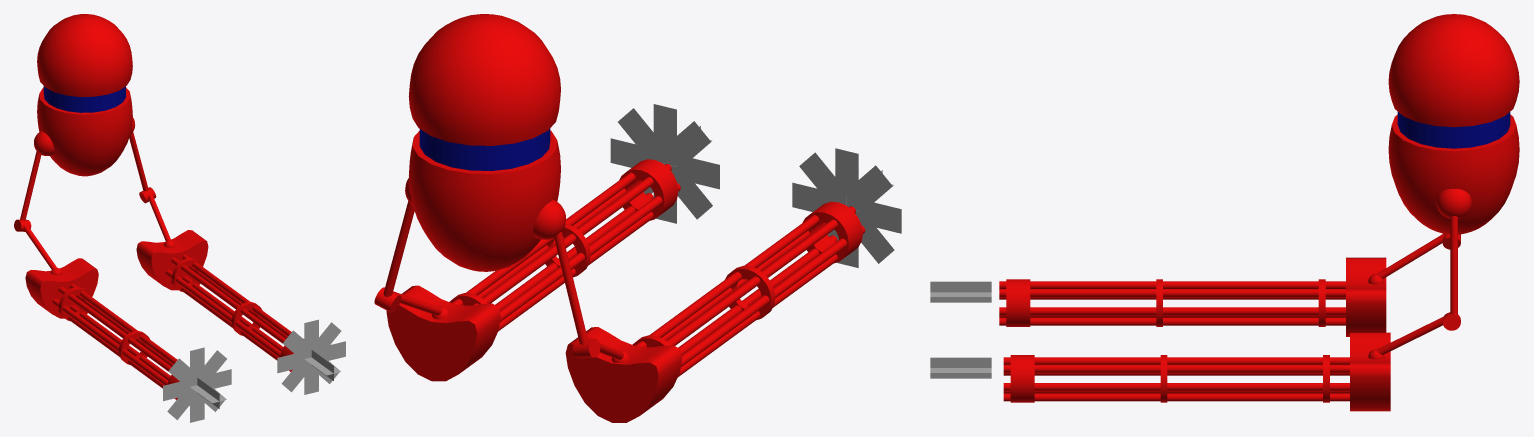
The model's file is gatlin_enemy_V2.fbx.
The picture shows the model from 3 angles, left to right: view 1: azimuth 30°, elevation 25°; view 2: azimuth 150°, elevation 25°; view 3: azimuth 270°, elevation 25°; orthographic projection. The views are drawn at different scales.
Visible parts, largest first — view 1: polySurface53, polySurface1, polySurface29, polySurface41, polySurface38, polySurface50, polySurface10, polySurface59, polySurface7, polySurface55, polySurface24, polySurface27 (+5 smaller); view 2: polySurface53, polySurface1, polySurface29, polySurface41, polySurface50, polySurface38, polySurface59, polySurface10, polySurface24, polySurface55, polySurface7, polySurface27 (+2 smaller); view 3: polySurface29, polySurface41, polySurface53, polySurface1, polySurface50, polySurface38, polySurface24, polySurface22, polySurface12, polySurface2, polySurface25, polySurface39 (+1 smaller).
Boxes of the visible parts, x1,y1,x2,y2 form: polySurface53: [37, 14, 132, 96]; polySurface1: [37, 87, 132, 176]; polySurface29: [52, 283, 189, 405]; polySurface41: [165, 254, 304, 371]; polySurface38: [25, 258, 98, 318]; polySurface50: [136, 230, 208, 290]; polySurface10: [163, 347, 231, 422]; polySurface59: [277, 319, 345, 394]; polySurface7: [167, 350, 226, 420]; polySurface55: [281, 322, 341, 392]; polySurface24: [43, 86, 125, 112]; polySurface27: [20, 151, 41, 220]; polySurface53: [408, 14, 560, 145]; polySurface1: [409, 130, 560, 271]; polySurface29: [632, 201, 865, 377]; polySurface41: [449, 159, 680, 331]; polySurface50: [386, 285, 500, 381]; polySurface38: [565, 327, 682, 422]; polySurface59: [610, 104, 719, 223]; polySurface10: [792, 148, 901, 267]; polySurface24: [419, 128, 550, 170]; polySurface55: [618, 108, 712, 219]; polySurface7: [799, 152, 894, 263]; polySurface27: [554, 231, 587, 344]; polySurface29: [999, 279, 1345, 326]; polySurface41: [1003, 355, 1349, 402]; polySurface53: [1388, 14, 1519, 127]; polySurface1: [1388, 114, 1519, 234]; polySurface50: [1350, 332, 1390, 411]; polySurface38: [1346, 257, 1386, 336]; polySurface24: [1397, 112, 1510, 148]; polySurface22: [930, 357, 991, 378]; polySurface12: [930, 281, 991, 302]; polySurface2: [1436, 189, 1471, 218]; polySurface25: [1450, 216, 1457, 315]; polySurface39: [1376, 233, 1444, 278].
Bounding box in the file's own units: 62.06 × 85.67 × 127.
